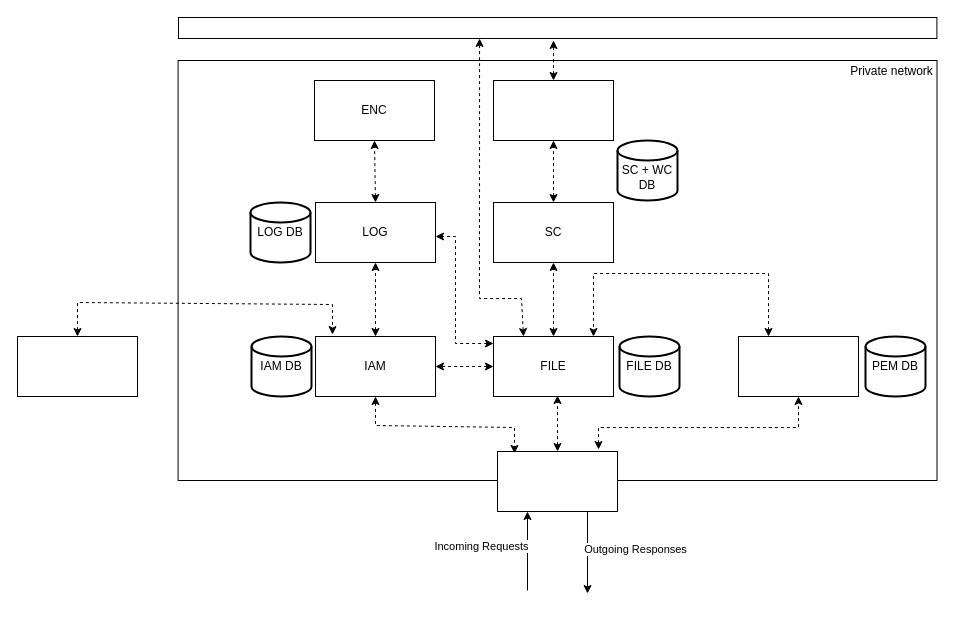
This 955x619 diagram has some shape labels left out. Here are the shapes that lost their labels. From the top down, the box of each, then its label:
(178, 16, 937, 38): External Storage Back-ends
(492, 80, 614, 140): WK
(16, 336, 138, 396): External IAM Providers
(738, 336, 858, 396): PEM
(496, 450, 618, 512): Gateway Module
